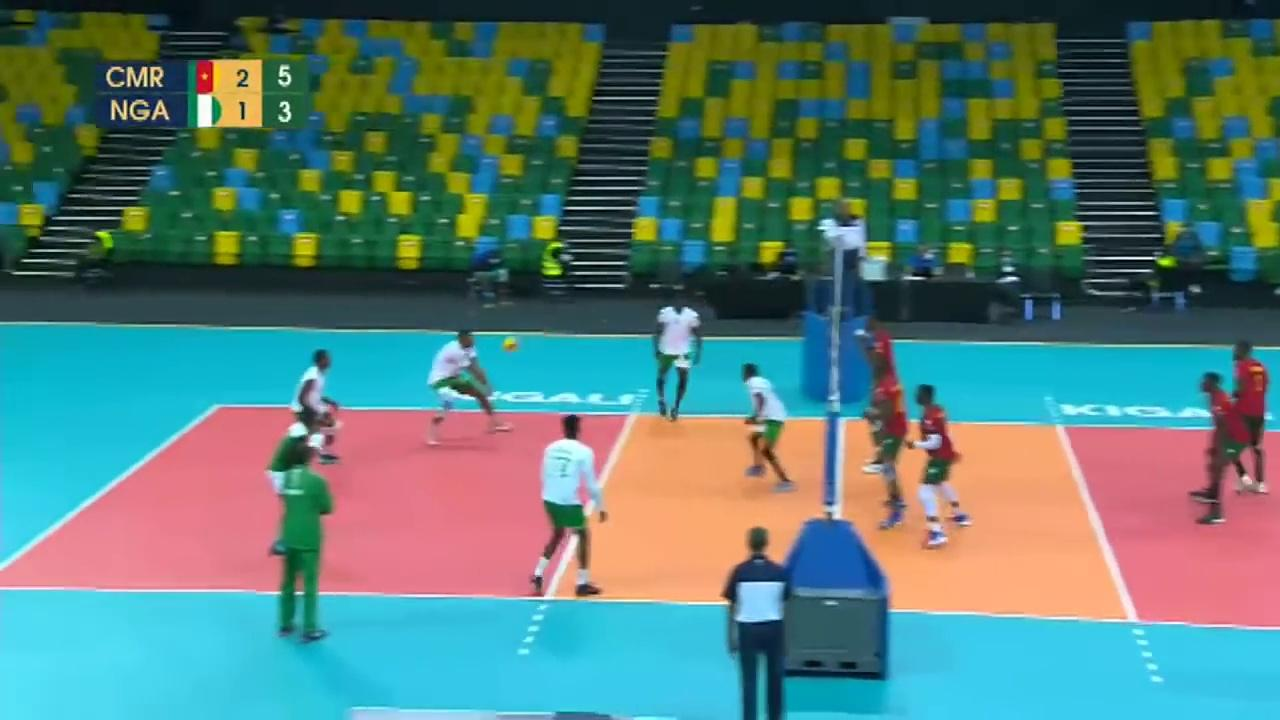player: (532, 423, 608, 595), (901, 387, 972, 543), (1215, 326, 1277, 503), (862, 354, 914, 535), (424, 331, 504, 446), (1189, 369, 1247, 519), (863, 316, 904, 477), (740, 364, 793, 488), (653, 296, 704, 420), (289, 352, 342, 468)
refree: (719, 523, 797, 720), (820, 194, 869, 309)
